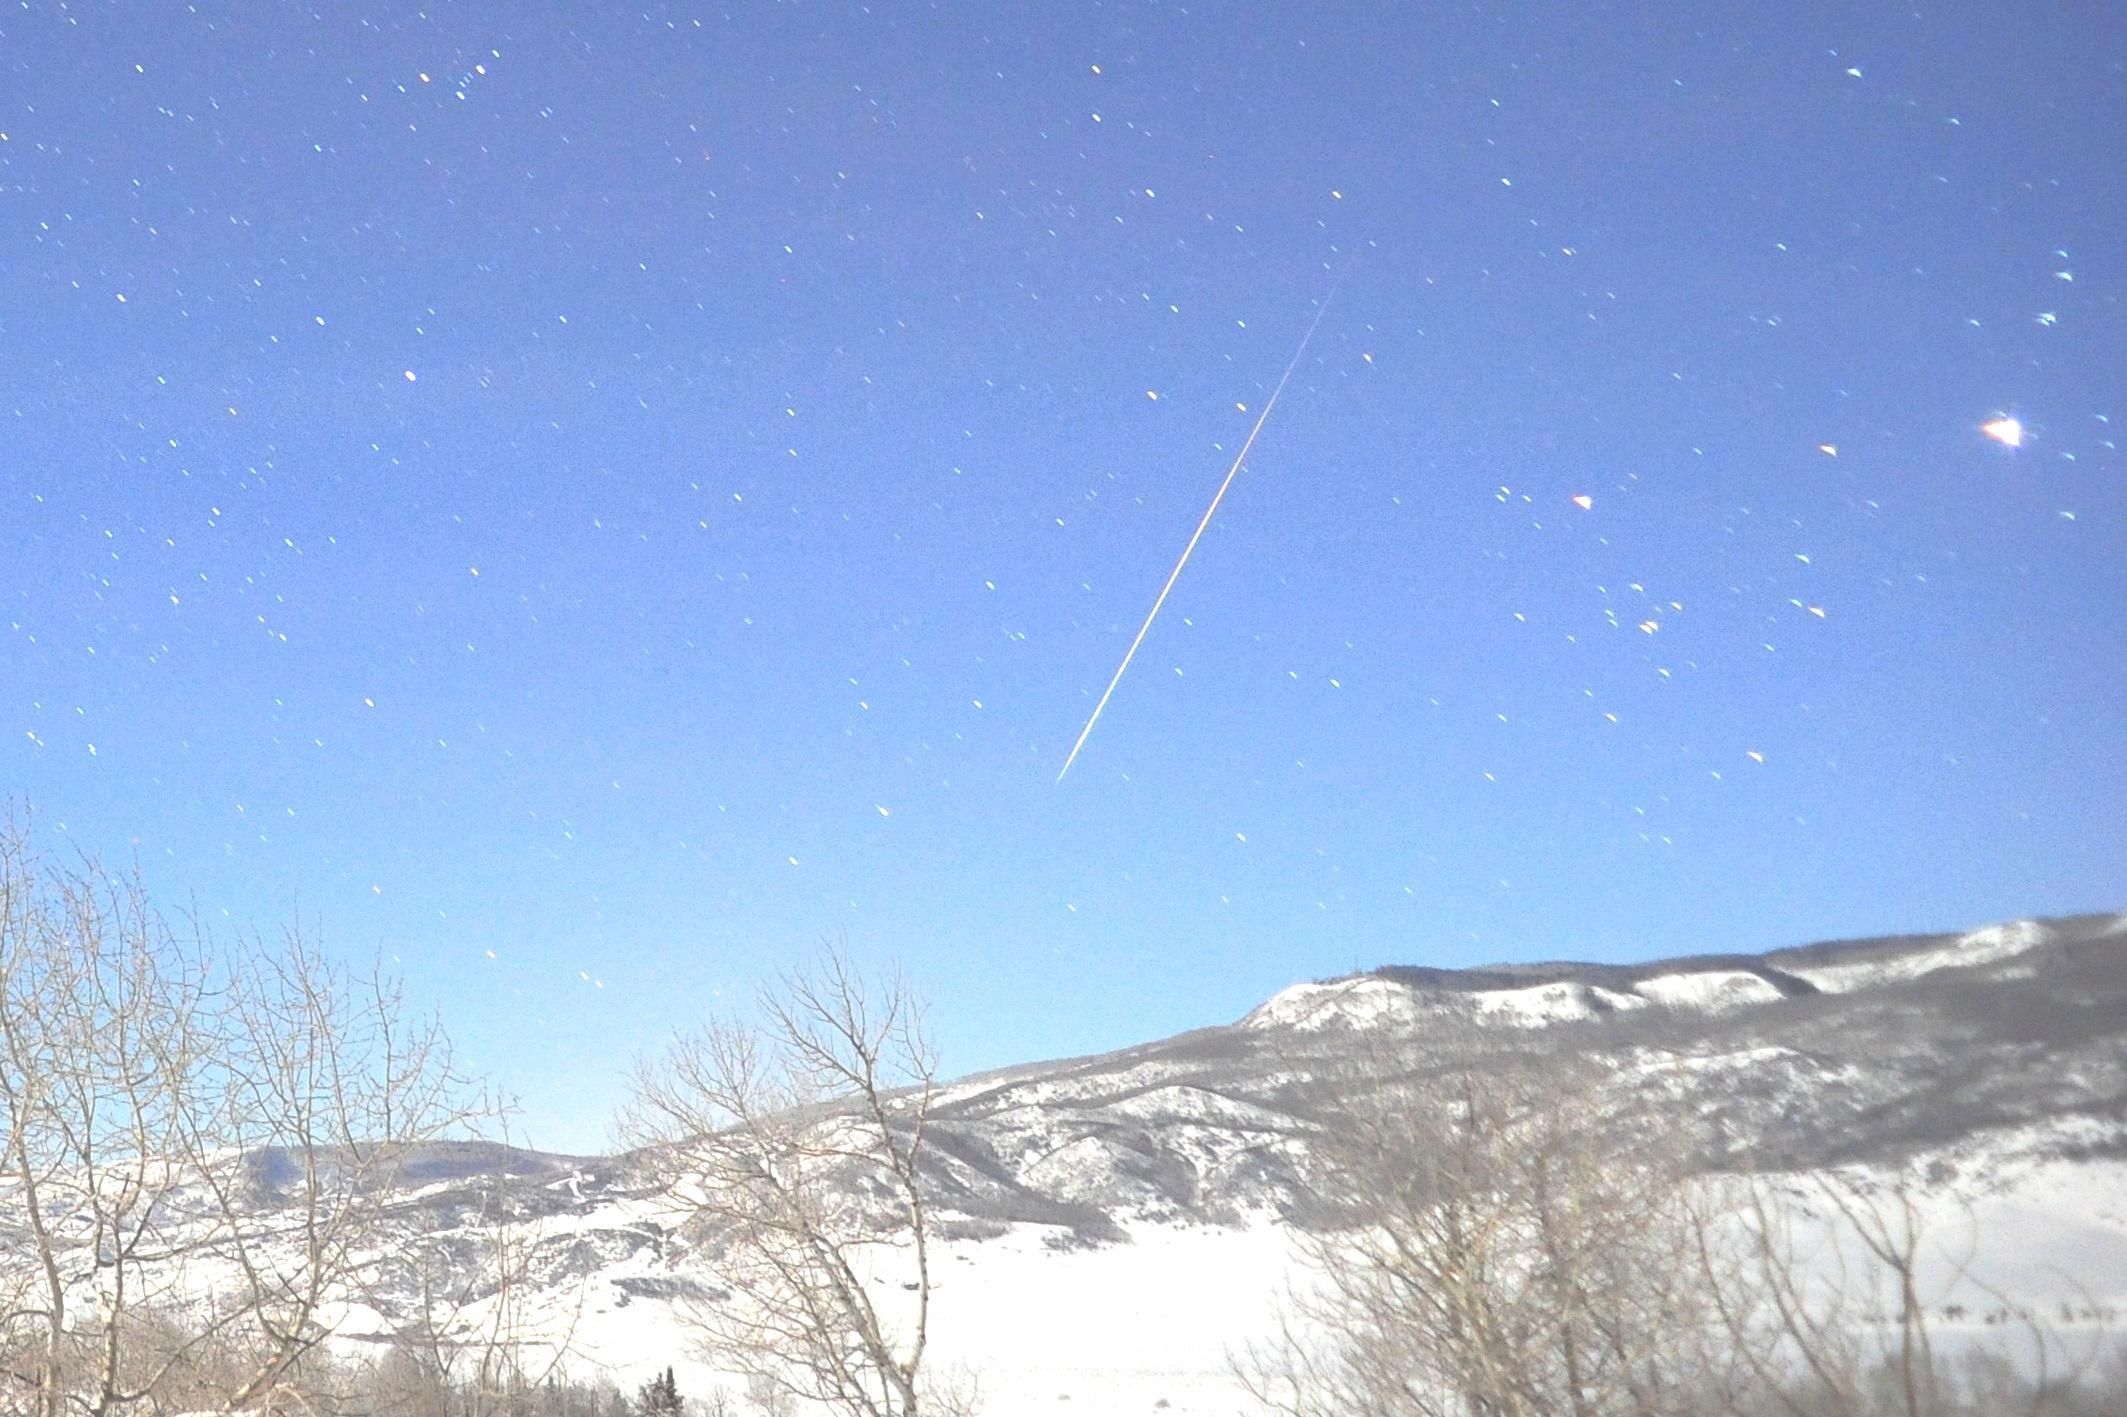meteorite: (990, 353, 1374, 800)
